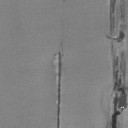slag inclusion: (105, 0, 128, 128), (57, 50, 62, 128)
